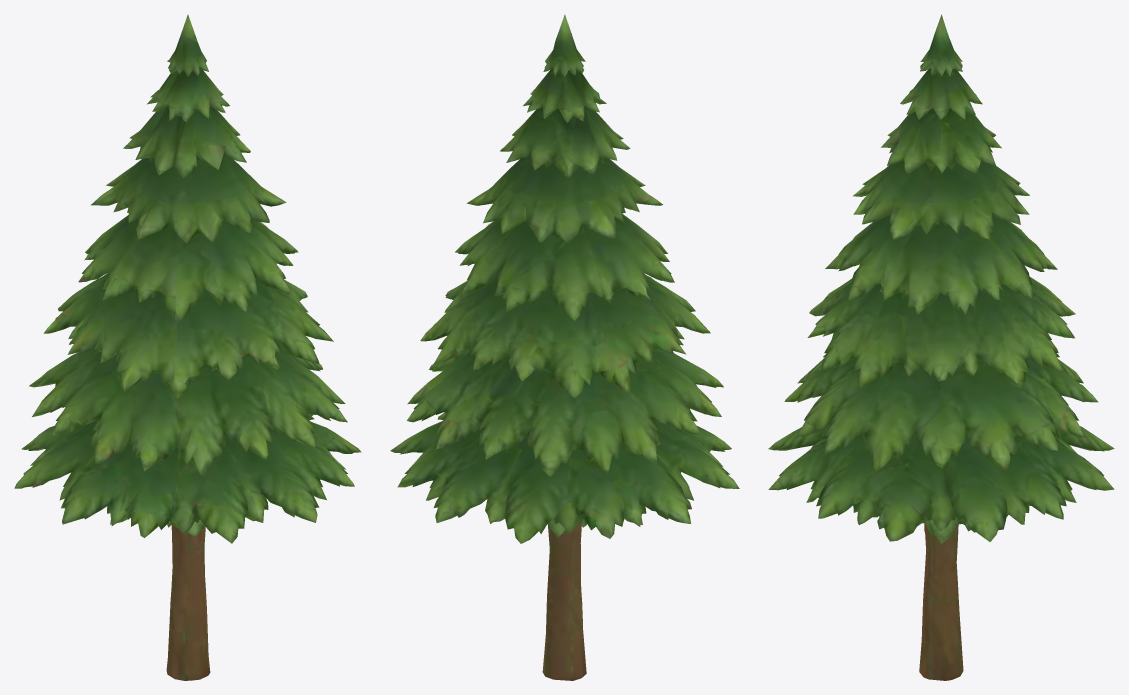
Rendered from fir.glb.
3 views of the same model, side by side, from view 1: azimuth 30°, elevation 25°; view 2: azimuth 150°, elevation 25°; view 3: azimuth 270°, elevation 25° (orthographic).
Bounding box in the file's own units: 0.9053 × 1.9 × 0.9055.
1 material, 1 textured.
